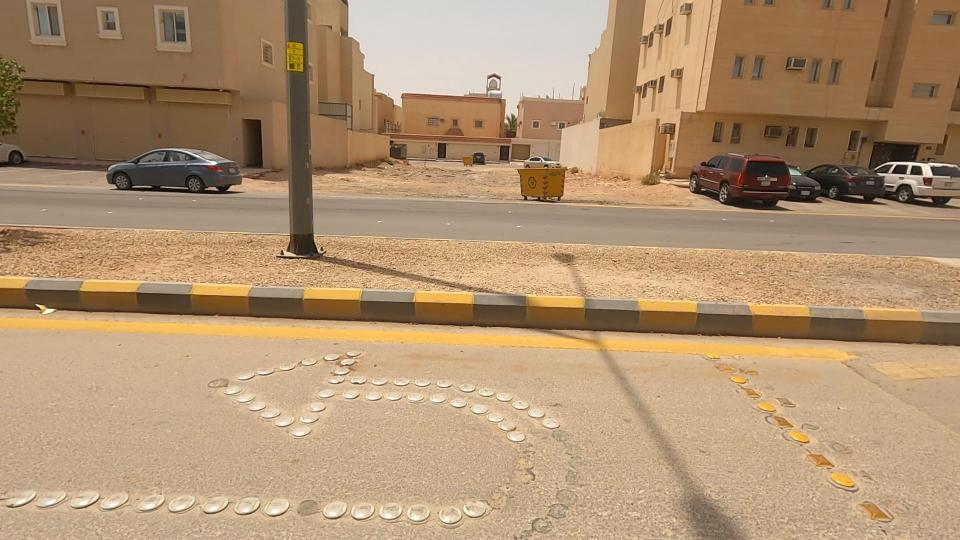CLUTTER_SIDEWALK: (235, 197, 960, 342)
